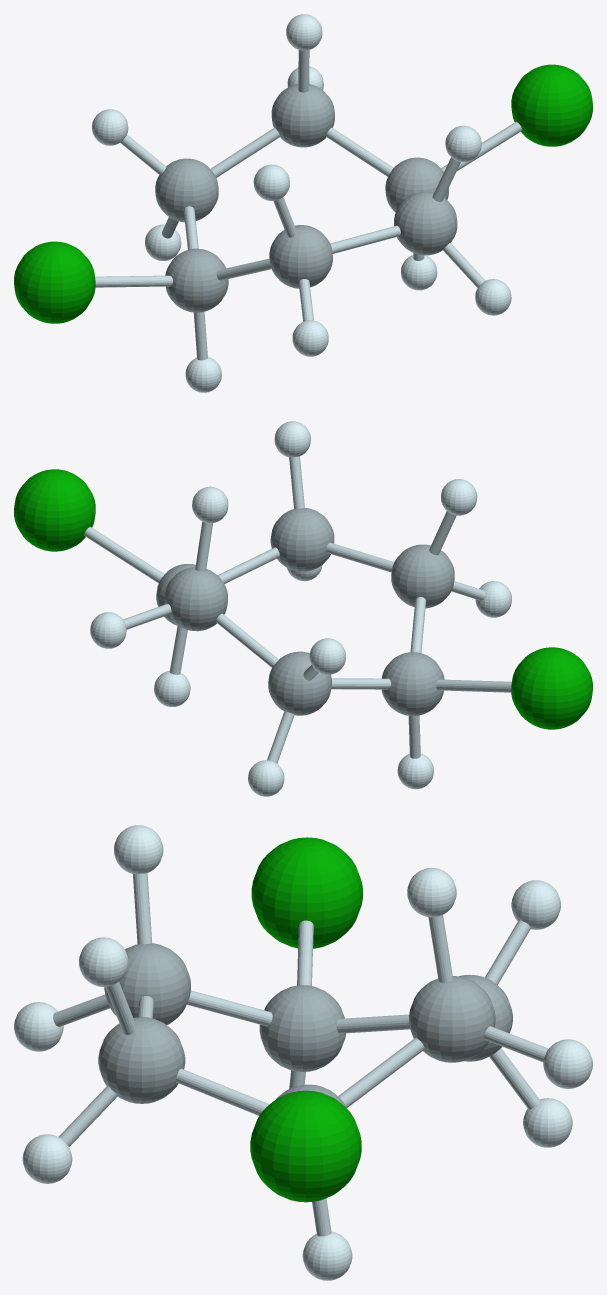
File: irc_step_100.glb
3 views of the same model, one above another, from view 1: azimuth 30°, elevation 25°; view 2: azimuth 150°, elevation 25°; view 3: azimuth 270°, elevation 25° (orthographic). The views are drawn at different scales.
Visible parts, largest first — view 1: Renderer Node; view 2: Renderer Node; view 3: Renderer Node.
Part boxes in pixels (<box>): Renderer Node: <box>14,14,592,392</box>; Renderer Node: <box>14,421,592,796</box>; Renderer Node: <box>14,825,592,1280</box>.
Size of the model in its own units: 7.17 by 3.61 by 4.66.
